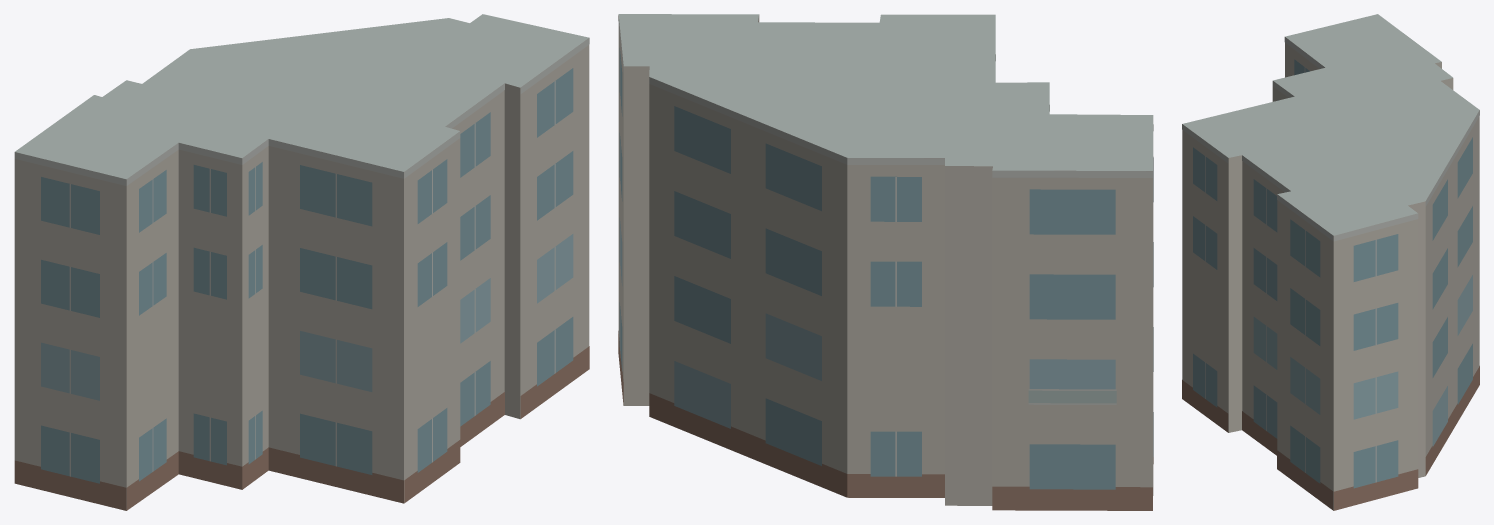
The model's file is survey-upis-32497528.glb.
3 views of the same model, side by side, from view 1: azimuth 30°, elevation 25°; view 2: azimuth 150°, elevation 25°; view 3: azimuth 270°, elevation 25° (orthographic). The views are drawn at different scales.
Parts seen in each view (by area): view 1: survey-upis-32497528.tmp; view 2: survey-upis-32497528.tmp; view 3: survey-upis-32497528.tmp.
Part boxes in pixels (x1,y1,x2,y2): survey-upis-32497528.tmp: [14, 14, 589, 510]; survey-upis-32497528.tmp: [618, 14, 1153, 510]; survey-upis-32497528.tmp: [1182, 14, 1479, 510].
Bounding box in the file's own units: 20.42 × 11.8 × 11.58.
